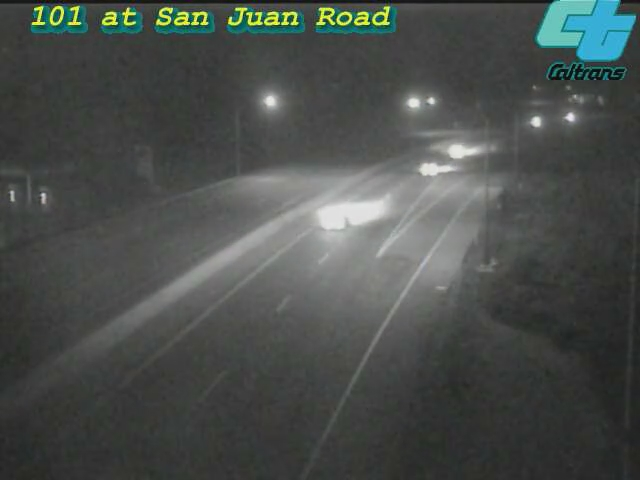vehicle: (389, 130, 469, 210), (294, 183, 374, 263), (510, 96, 560, 146), (546, 93, 596, 143), (429, 128, 479, 178)
